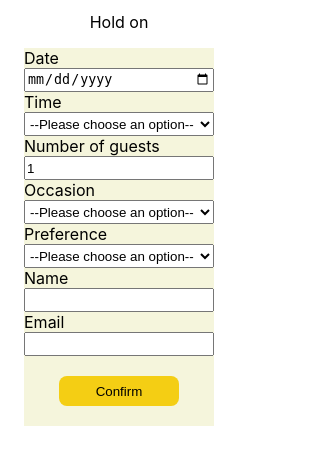
it: Test BookingForm › Testing form validation on invalid inputs › test too short name
Step 1. Type "N" into the field labelled "Name" → (119, 300), box [24,288,214,312]
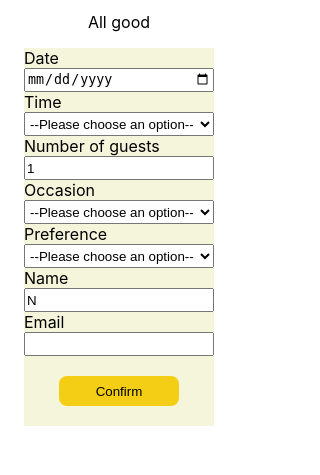
Step 2. Leave the field labelled "Name", box [24,288,214,312]
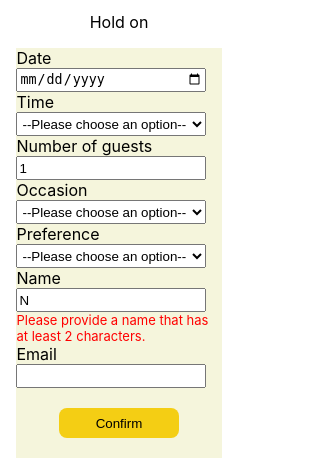
Expected: the text with test id "res_name_error" reads "Please provide a name that has at least 2 characters.", [16,312,208,344]
